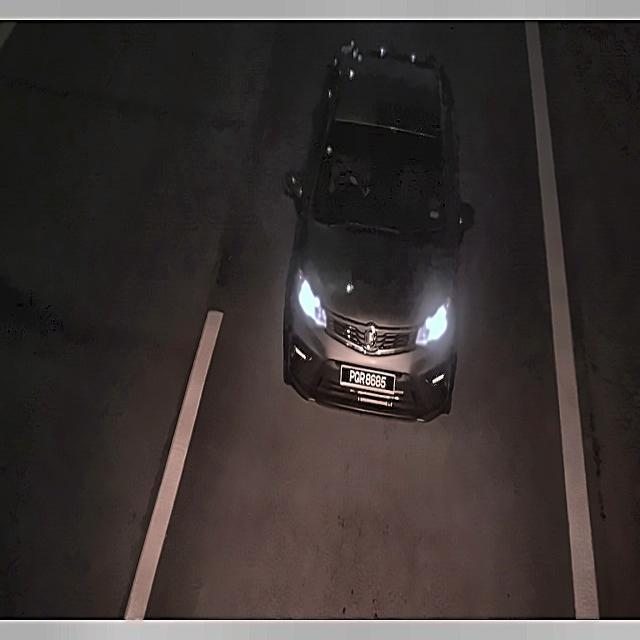car: (338, 356, 398, 399)
